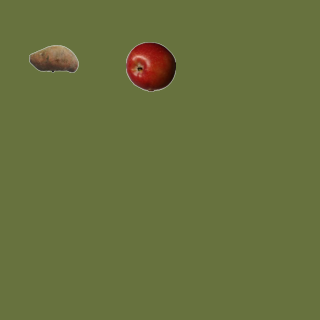Apple Braeburn: (125, 41, 175, 91)
Potato Sweet: (28, 33, 78, 83)
